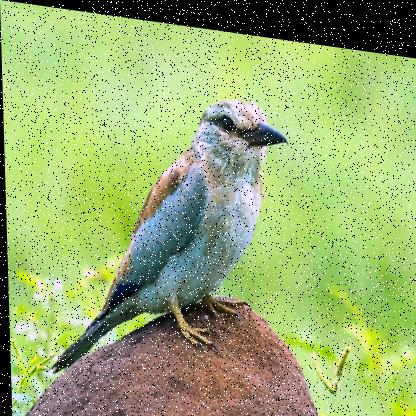Burung: (44, 70, 294, 399)
